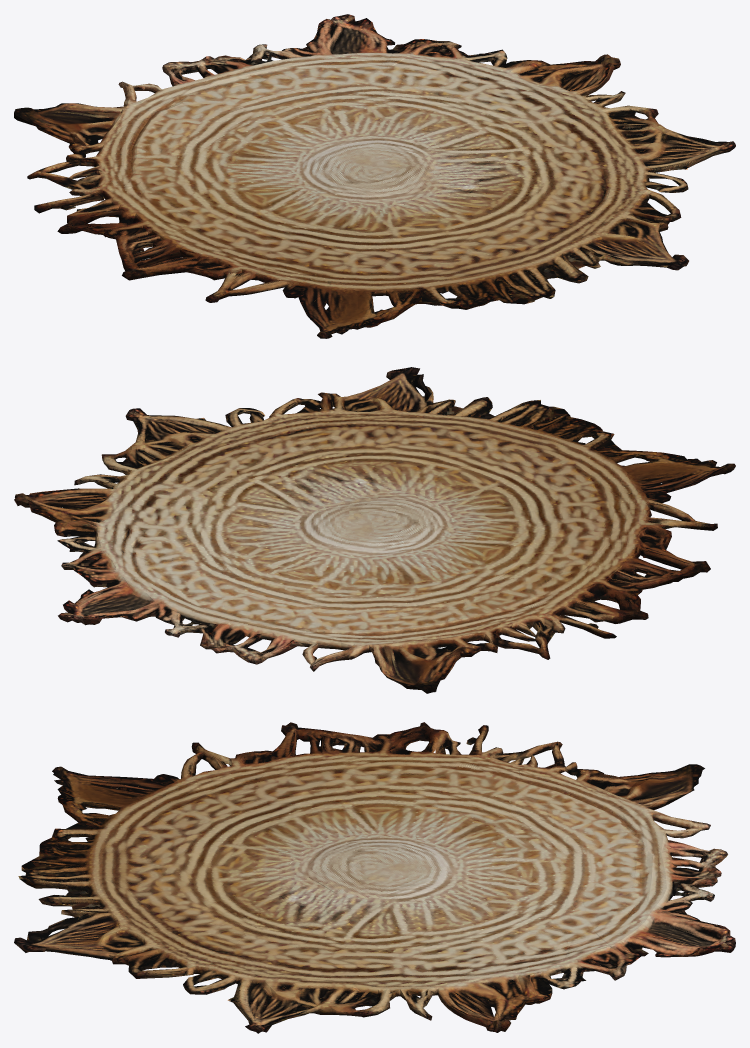
Rendered from natural-fiber-table-mat-vintage.jpeg.glb.
The picture shows the model from 3 angles, top to bottom: view 1: azimuth 30°, elevation 25°; view 2: azimuth 150°, elevation 25°; view 3: azimuth 270°, elevation 25°; orthographic projection. The views are drawn at different scales.
Visible parts, largest first — view 1: world; view 2: world; view 3: world.
Boxes of the visible parts, <box> form: world: <box>14,14,735,338</box>; world: <box>14,367,735,693</box>; world: <box>14,722,735,1033</box>.
Size of the model in its own units: 0.9966 by 0.022 by 0.9925.
Materials: 1 (1 with a texture image).
